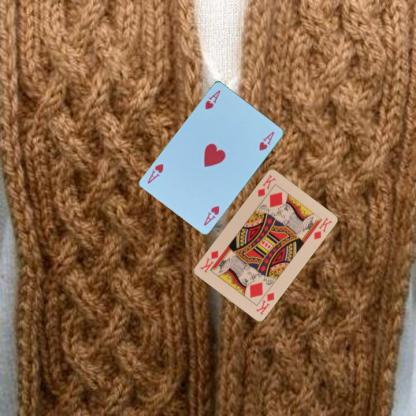Ah: (202, 87, 222, 110), (201, 203, 221, 226)
Kd: (253, 290, 276, 316), (255, 172, 277, 198)
